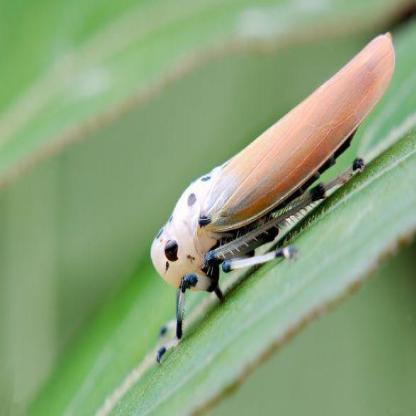grasshopper: (133, 12, 416, 367)
